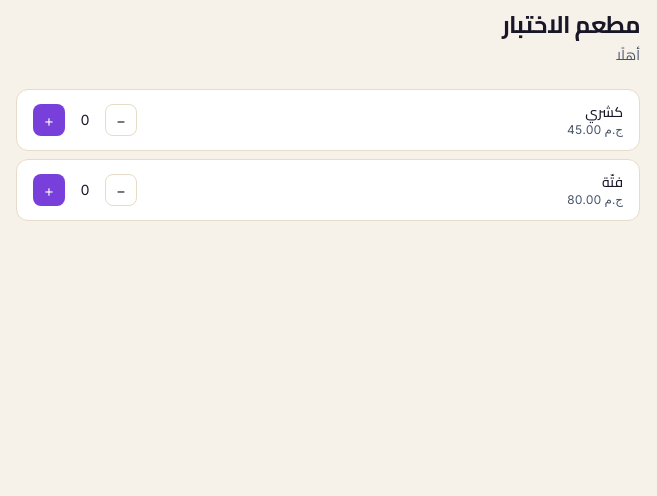
Scenario: placing an order › shows a running total, and says the server decides the real one
Click the button named "إضافة كشري": (49, 120) [33, 104, 65, 136]
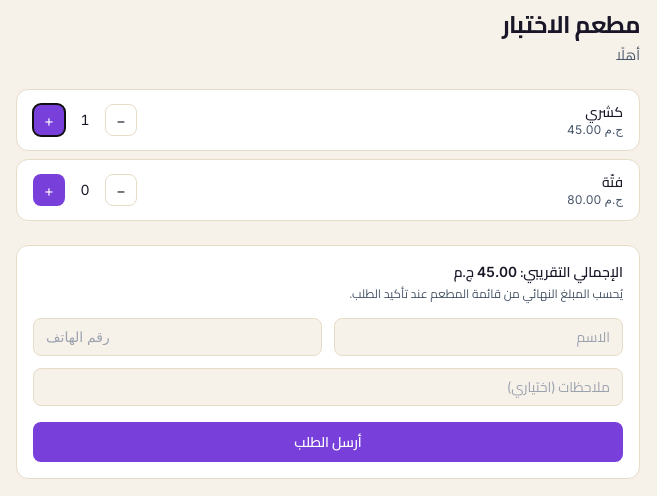
Click the button named "إضافة فتّة": (49, 190) [33, 174, 65, 206]
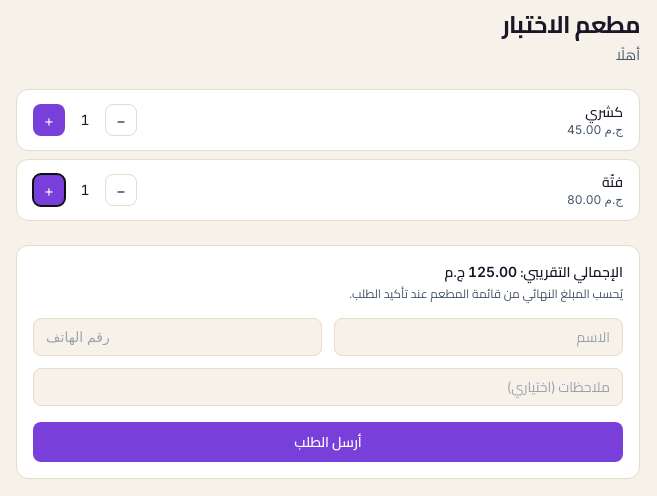
Expected: the text "يُحسب المبلغ النهائي من قائمة المطعم عند تأكيد الطلب." is shown, [349, 282, 623, 305]
Expected: the text with test id "basket-total" reads "125.00", [468, 263, 517, 280]
